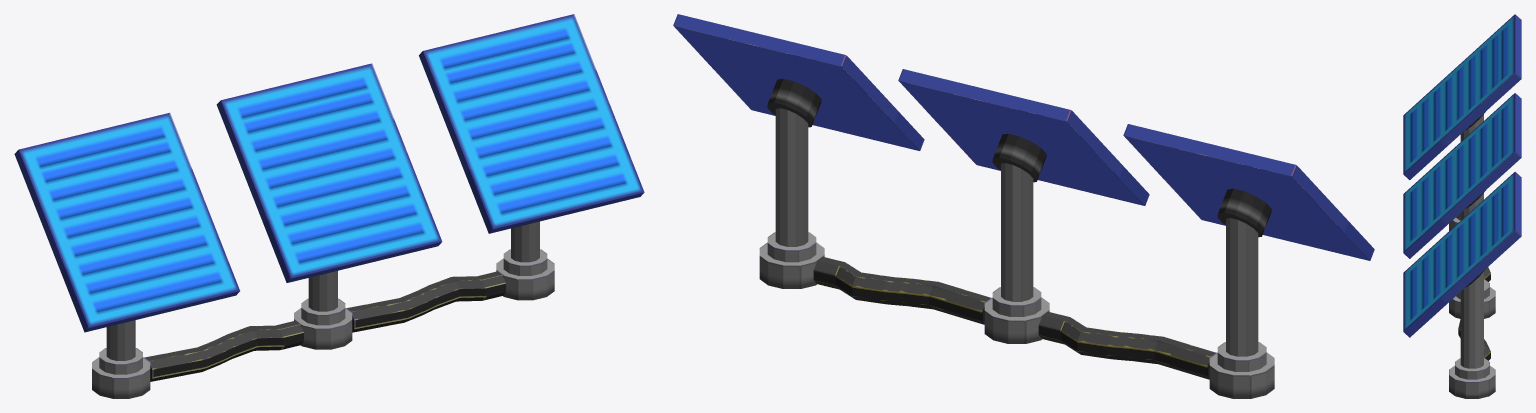
File: Solar.fbx
The picture shows the model from 3 angles, left to right: view 1: azimuth 30°, elevation 25°; view 2: azimuth 150°, elevation 25°; view 3: azimuth 270°, elevation 25°; orthographic projection. The views are drawn at different scales.
Visible parts, largest first — view 1: cuboid_2, cuboid, cuboid_1, cylinder_12, cylinder_13, cylinder_8, cylinder, cylinder_4, cylinder_2, cylinder_10, cylinder_6, cylinder_1 (+2 smaller); view 2: cuboid_1, cuboid_2, cuboid, cylinder_12, cylinder_13, cylinder_6, cylinder_10, cylinder_2, cylinder_8, cylinder, cylinder_4, cylinder_7 (+5 smaller); view 3: cuboid_1, cuboid_2, cuboid, cylinder_6, cylinder_4, cylinder, cylinder_5, cylinder_2, cylinder_10, cylinder_12, cylinder_1.
Part boxes in pixels (x1,y1,x2,y2): cuboid_2: [14, 112, 239, 332]; cuboid: [216, 63, 442, 282]; cuboid_1: [419, 14, 644, 233]; cylinder_12: [346, 271, 505, 332]; cylinder_13: [144, 320, 303, 381]; cylinder_8: [92, 357, 150, 398]; cylinder: [294, 308, 352, 349]; cylinder_4: [496, 258, 554, 300]; cylinder_2: [308, 271, 337, 311]; cylinder_10: [106, 320, 135, 360]; cylinder_6: [511, 221, 539, 262]; cylinder_1: [301, 298, 345, 325]; cuboid_1: [673, 14, 924, 150]; cuboid_2: [1123, 124, 1374, 260]; cuboid: [898, 69, 1149, 205]; cylinder_12: [813, 257, 990, 324]; cylinder_13: [1038, 311, 1216, 379]; cylinder_6: [775, 108, 808, 246]; cylinder_10: [1226, 218, 1258, 356]; cylinder_2: [1001, 163, 1033, 301]; cylinder_8: [1209, 352, 1274, 398]; cylinder: [984, 297, 1049, 343]; cylinder_4: [759, 242, 824, 288]; cylinder_7: [767, 79, 821, 127]; cuboid_1: [1403, 171, 1521, 337]; cuboid_2: [1403, 14, 1521, 179]; cuboid: [1403, 93, 1521, 258]; cylinder_6: [1460, 272, 1483, 368]; cylinder_4: [1449, 365, 1495, 398]; cylinder: [1449, 287, 1495, 318]; cylinder_5: [1455, 358, 1489, 379]; cylinder_2: [1460, 193, 1483, 220]; cylinder_10: [1460, 114, 1483, 141]; cylinder_12: [1458, 319, 1490, 360]; cylinder_1: [1456, 279, 1489, 298].
Bounding box in the file's own units: 68.75 × 27.88 × 15.91.
Materials: 1 (1 with a texture image).
